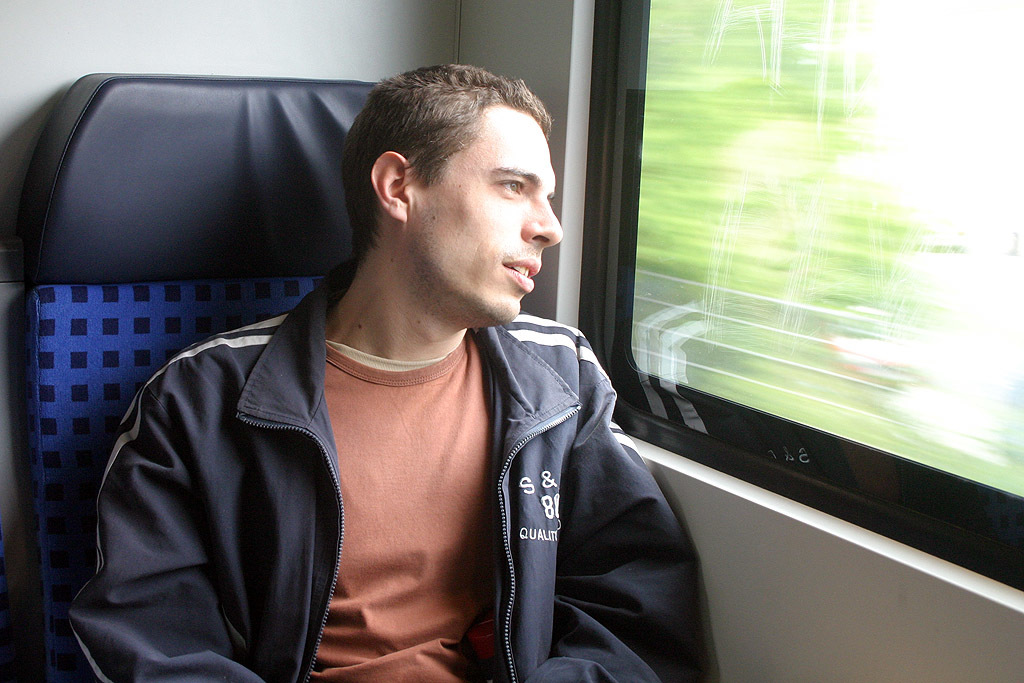Window: (576, 0, 1023, 598)
